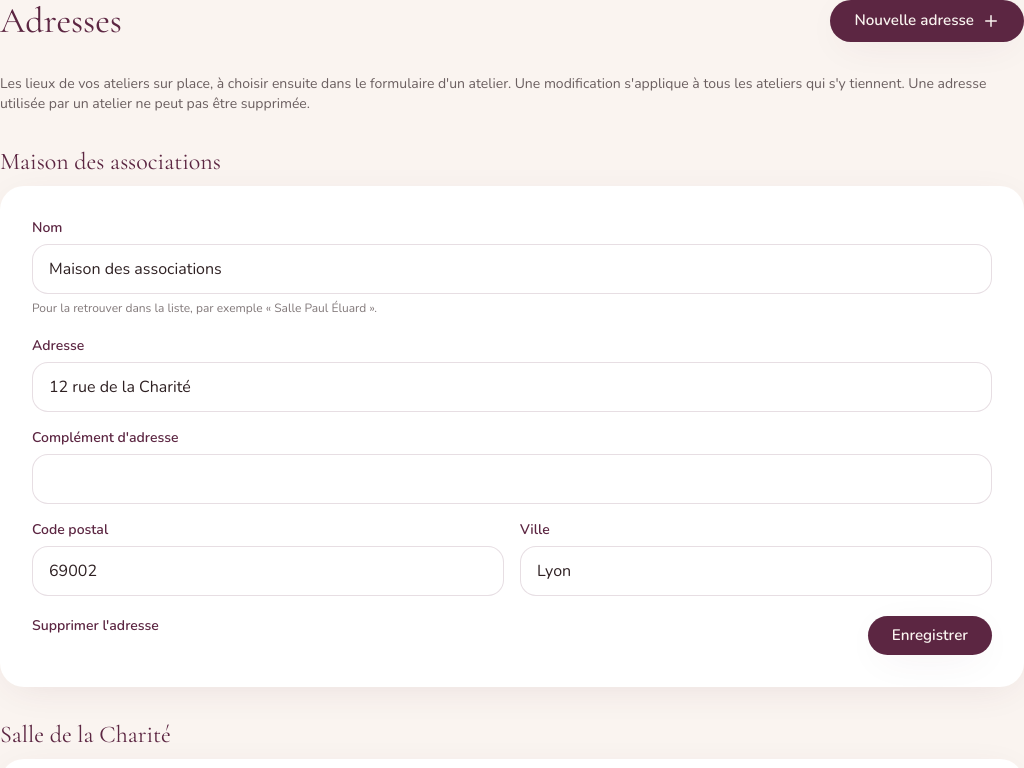
Test: AddressesEditor › deletes an unused address once confirmed
Click the button "Supprimer l'adresse".
click(95, 626)  # box [32,616,159,636]
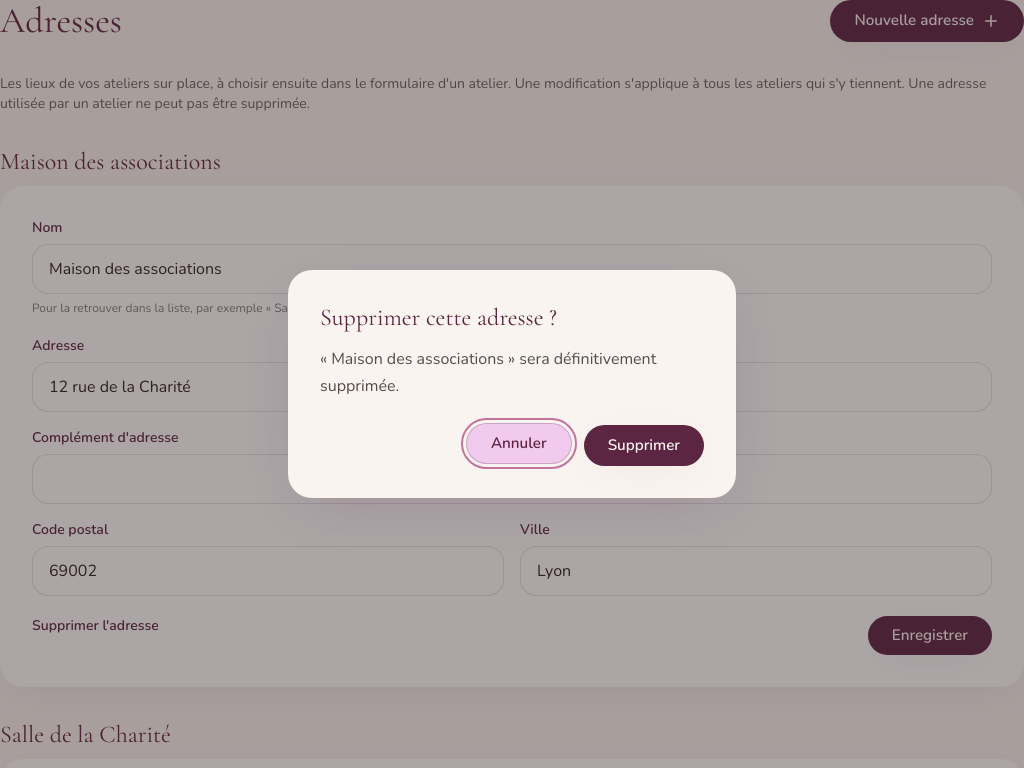
Click the button "Supprimer".
click(644, 445)  # box [584,425,704,466]
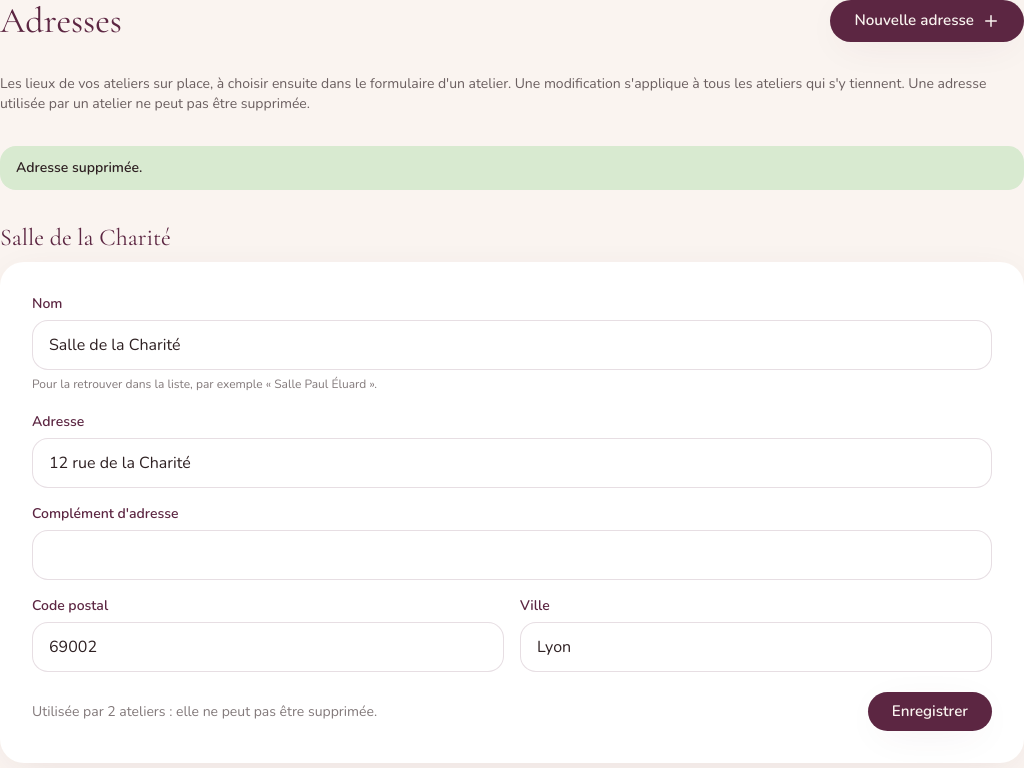
Expected: the text "Adresse supprimée." is shown, [0,146,1023,190]
Expected: the heading "Maison des associations" is gone
